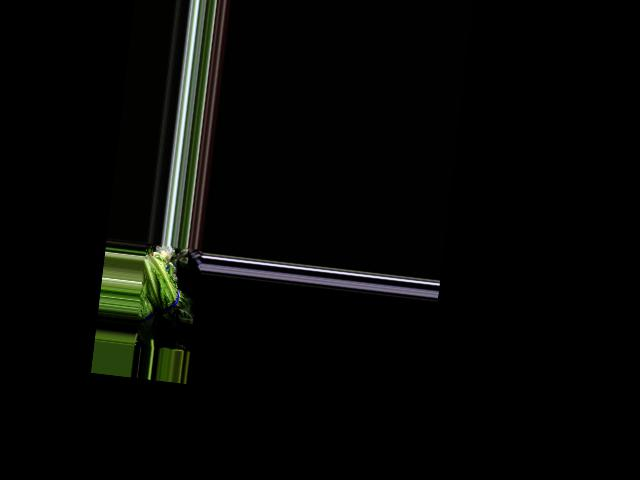lettuce: (136, 258, 196, 328)
